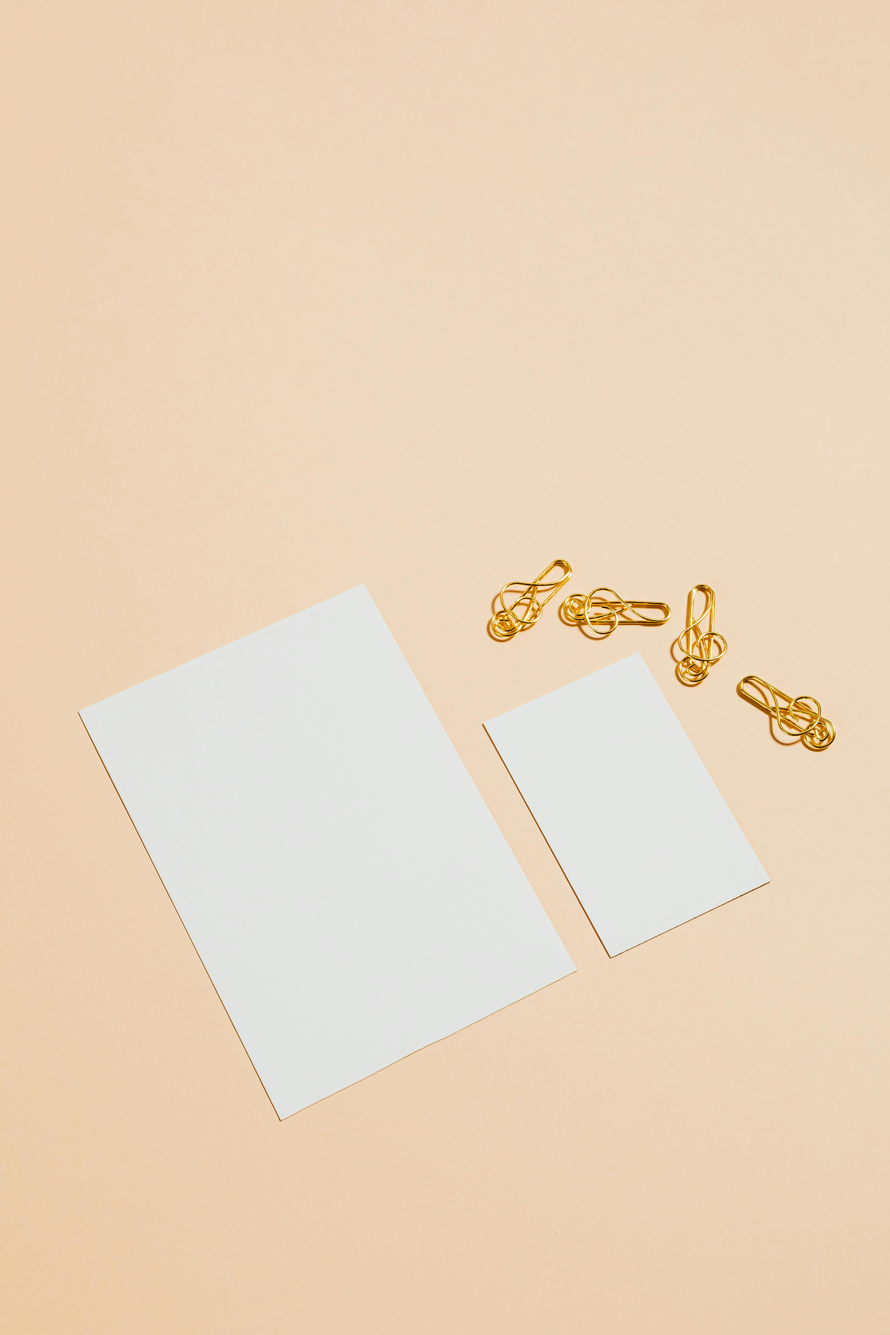paper: (78, 585, 580, 1121), (481, 649, 771, 958)
